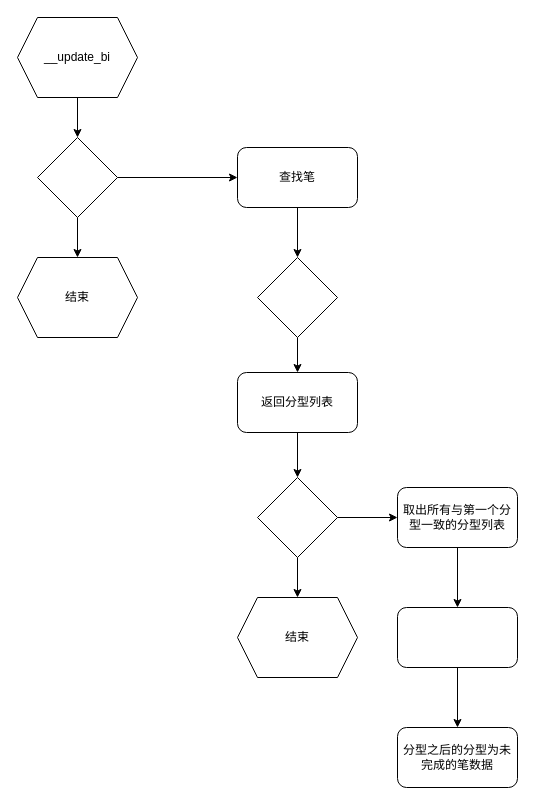
This 535x805 diagram has some shape labels left out. Here are the shapes that lost their labels. From the top down, the centre of each, then its label:
At pixel 77 177: "len(bars_ubi <3".
At pixel 297 297: "第一笔".
At pixel 297 517: "列表为空".
At pixel 457 637: "取出分型列表中的最上的顶分型或是最下的底分型".
